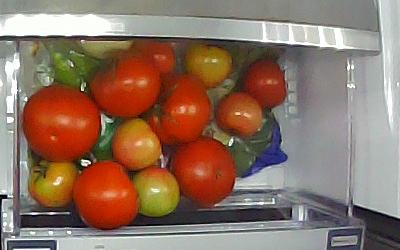tomato: (22, 85, 102, 162), (169, 134, 237, 209), (90, 49, 162, 118), (72, 160, 140, 231), (146, 74, 211, 146), (110, 116, 164, 171), (132, 166, 181, 218), (216, 90, 263, 140), (242, 58, 288, 108), (29, 161, 77, 208), (185, 43, 233, 88), (132, 41, 176, 80)
